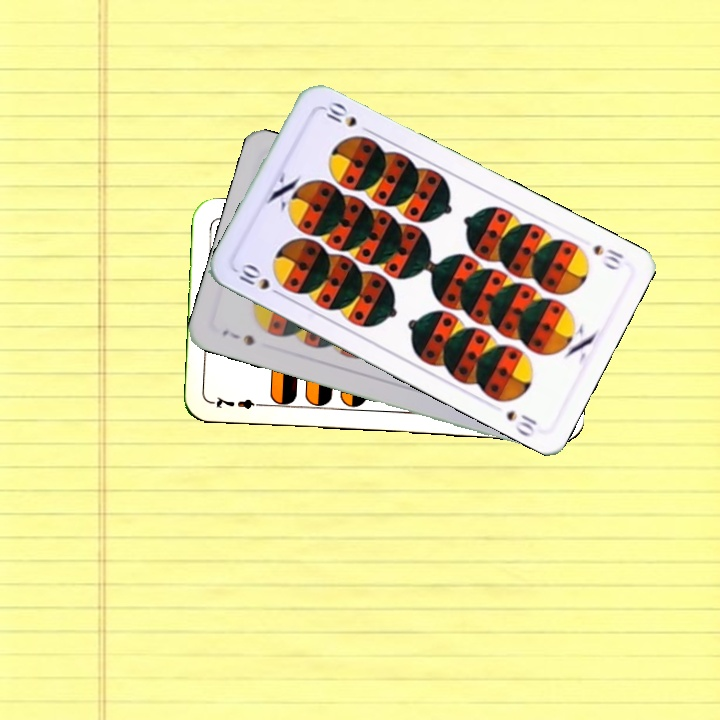E7: (209, 392, 268, 412)
S10: (234, 259, 286, 300), (589, 240, 627, 273)
S7: (218, 325, 257, 349)
